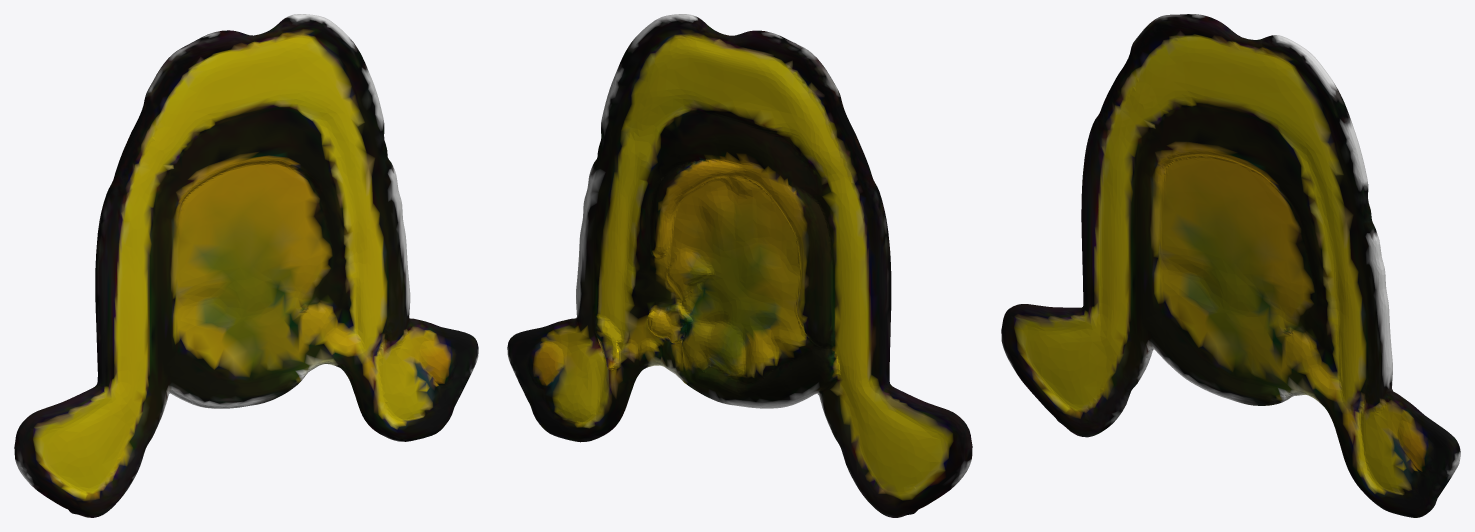
Rendered from wig.glb.
3 renders of one model, left to right at view 1: azimuth 30°, elevation 25°; view 2: azimuth 150°, elevation 25°; view 3: azimuth 330°, elevation 25°, orthographic.
Visible parts, largest first — view 1: geometry_0; view 2: geometry_0; view 3: geometry_0.
Boxes of the visible parts, x1,y1,x2,y2 form: geometry_0: (14, 14, 478, 517); geometry_0: (507, 14, 972, 517); geometry_0: (1001, 14, 1460, 517).
Size of the model in its own units: 0.5625 by 0.5286 by 0.0294.
